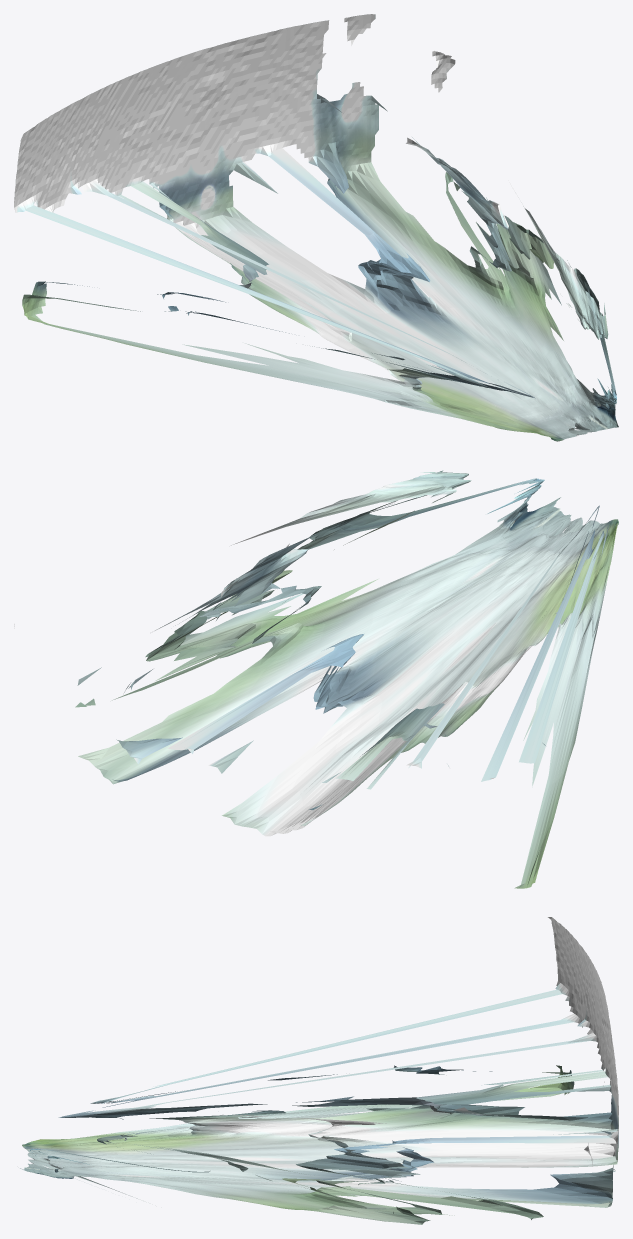
3 views of the same model, one above another, from view 1: azimuth 30°, elevation 25°; view 2: azimuth 150°, elevation 25°; view 3: azimuth 270°, elevation 25° (orthographic). The views are drawn at different scales.
Visible parts, largest first — view 1: defaultobject; view 2: defaultobject; view 3: defaultobject.
Boxes of the visible parts, x1=… form: defaultobject: x1=14, y1=14, x2=618, y2=441; defaultobject: x1=14, y1=470, x2=618, y2=888; defaultobject: x1=20, y1=917, x2=618, y2=1224.
Size of the model in its own units: 34.66 by 15.43 by 45.31.
Materials: 1 (1 with a texture image).
